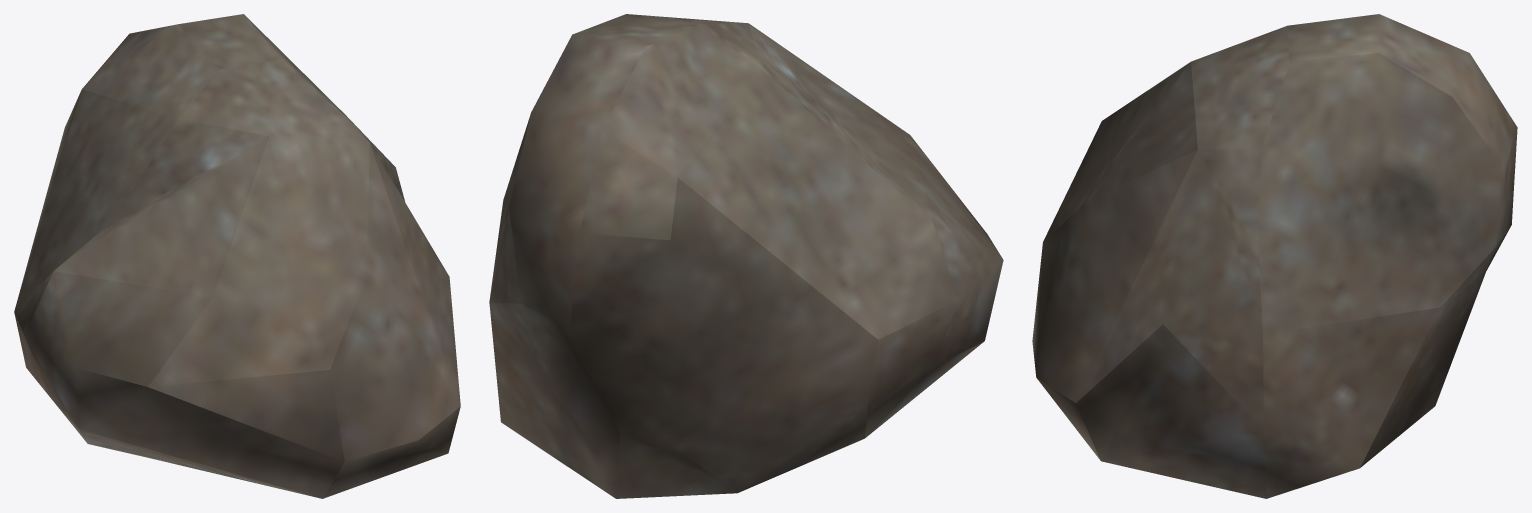
File: Stone3.fbx
3 views of the same model, side by side, from view 1: azimuth 30°, elevation 25°; view 2: azimuth 150°, elevation 25°; view 3: azimuth 270°, elevation 25° (orthographic). The views are drawn at different scales.
Parts seen in each view (by area): view 1: Stone_3; view 2: Stone_3; view 3: Stone_3.
Part boxes in pixels (left/top/right/bottom): Stone_3: left=14, top=14, right=460, bottom=498; Stone_3: left=489, top=14, right=1003, bottom=498; Stone_3: left=1032, top=14, right=1517, bottom=498.
Size of the model in its own units: 27.27 by 27.1 by 27.88.
